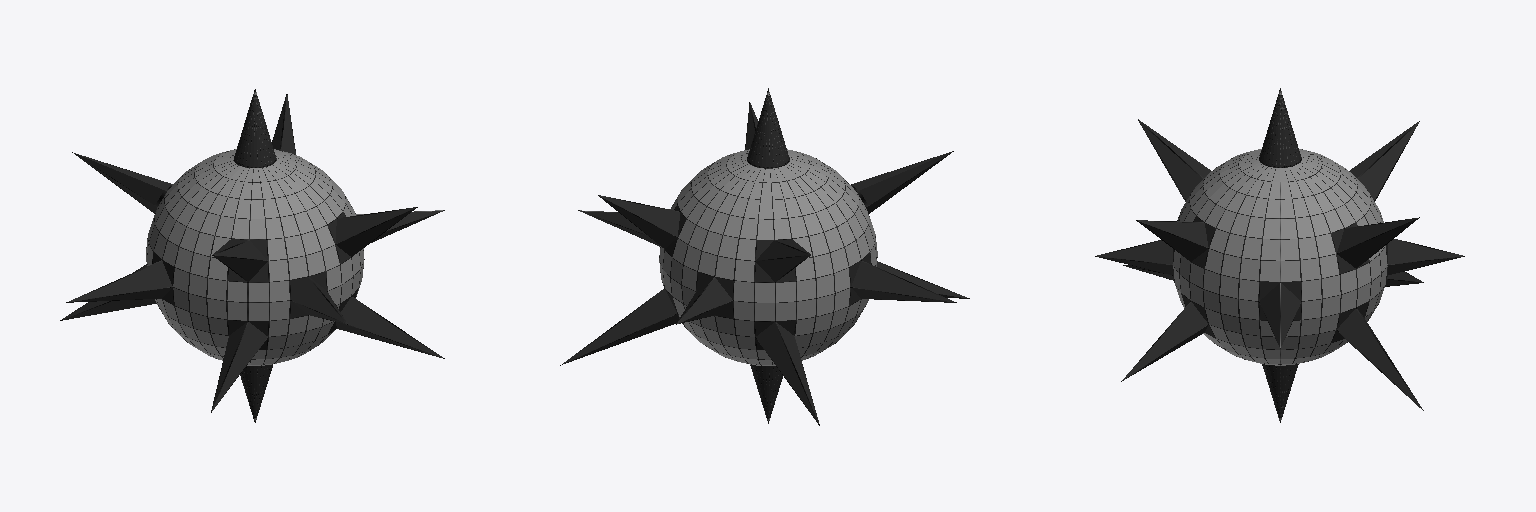
3 views of the same model, side by side, from view 1: azimuth 30°, elevation 25°; view 2: azimuth 150°, elevation 25°; view 3: azimuth 270°, elevation 25° (orthographic).
Visible parts, largest first — view 1: 球; view 2: 球; view 3: 球.
Boxes of the visible parts, box(x1,y1,x2,y2) form: 球: box(60, 89, 444, 422); 球: box(560, 88, 969, 425); 球: box(1095, 88, 1464, 422).
Size of the model in its own units: 4.01 by 3.38 by 3.39.
Materials: 1 (1 with a texture image).